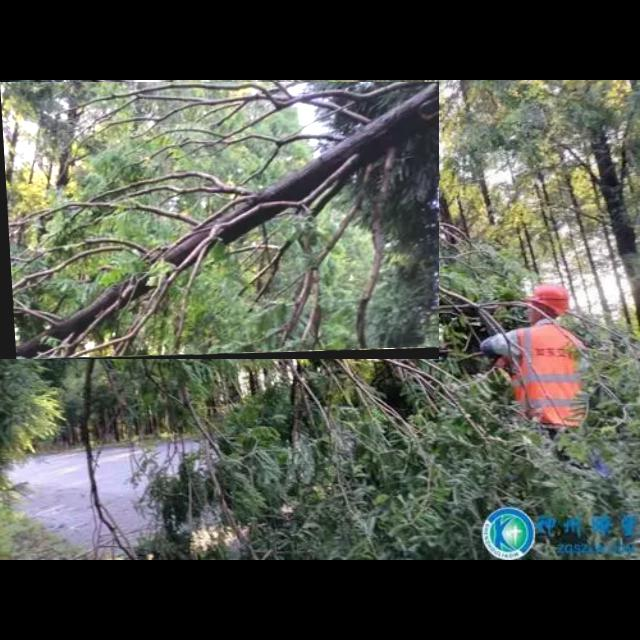Fallen Tree: (0, 82, 440, 360)
